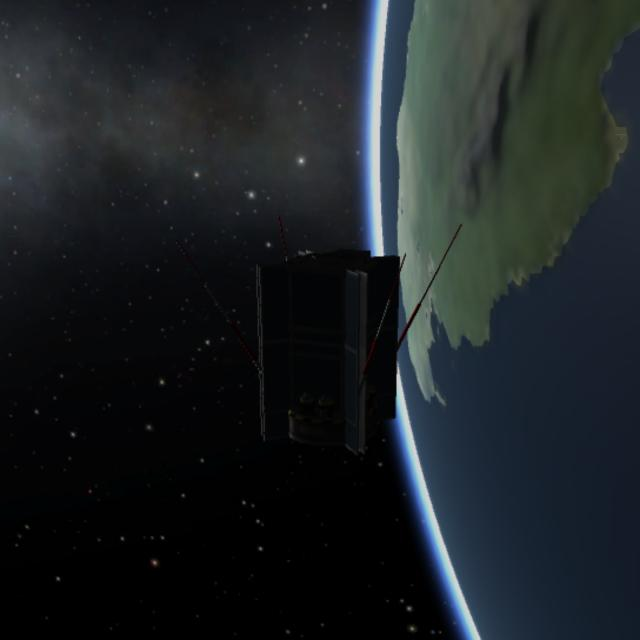medium_debris: (251, 215, 472, 499)
